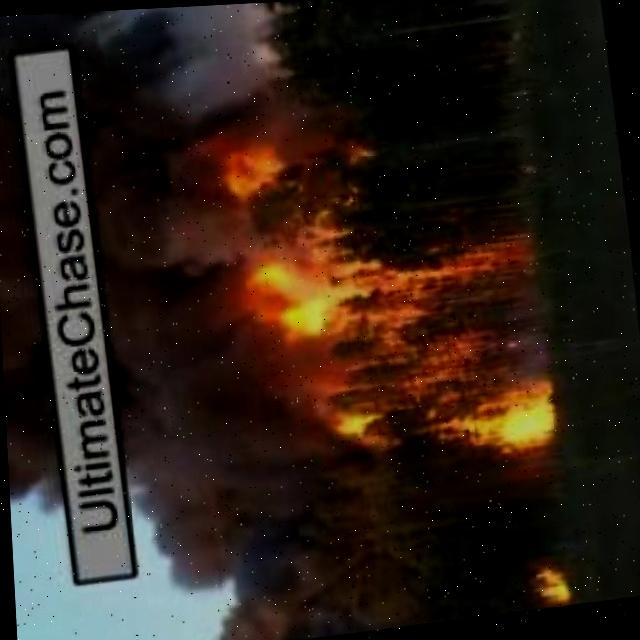fire: (245, 234, 561, 489), (217, 144, 322, 204), (532, 575, 568, 616)
